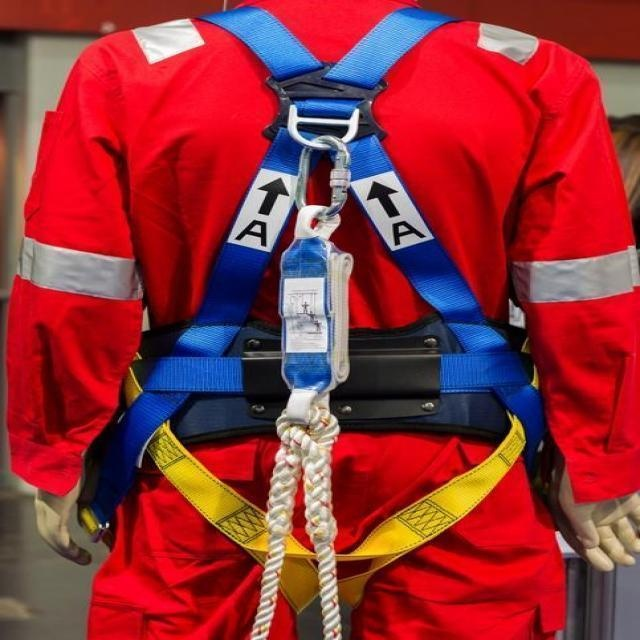Arnes_seguridad: (105, 3, 555, 628)
